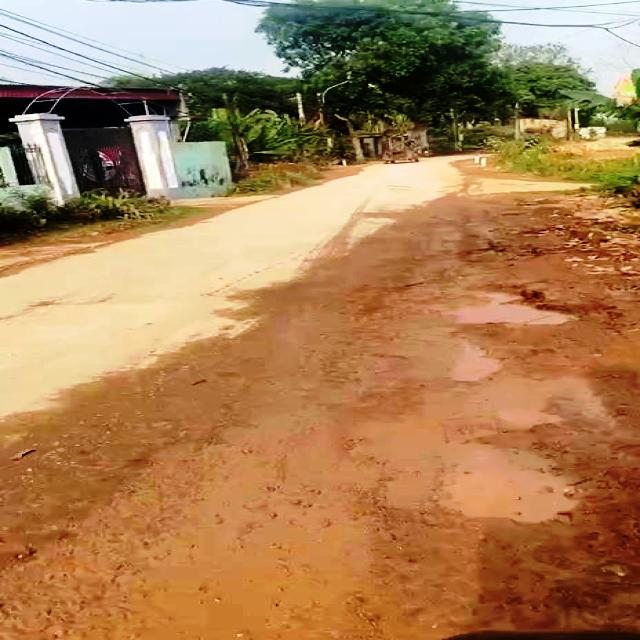pothole: (416, 460, 584, 524), (435, 288, 582, 328), (448, 338, 502, 383), (491, 405, 563, 427)
